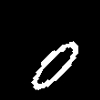chain: (31, 41, 77, 89)
